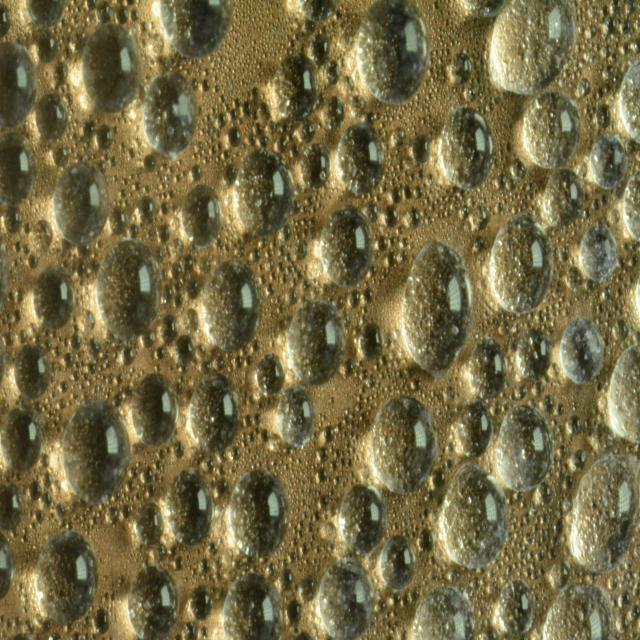dr: (402, 236, 469, 374), (570, 450, 638, 575), (489, 0, 574, 95), (357, 0, 433, 106), (62, 394, 128, 507), (94, 239, 164, 342), (442, 460, 509, 567), (489, 213, 549, 315), (34, 530, 97, 625), (371, 392, 431, 489), (199, 258, 260, 351), (79, 23, 142, 111), (286, 296, 346, 386), (148, 0, 239, 59), (234, 146, 290, 238), (495, 405, 555, 490), (231, 470, 287, 560), (50, 159, 106, 243), (224, 567, 287, 640), (440, 101, 491, 190), (541, 581, 616, 640), (320, 204, 373, 287), (320, 559, 373, 640), (408, 581, 479, 640), (126, 560, 178, 640), (146, 71, 197, 149), (188, 374, 241, 448), (523, 98, 579, 166), (130, 369, 178, 446), (0, 40, 41, 130), (164, 469, 212, 544), (606, 348, 640, 445), (336, 484, 383, 554), (559, 316, 604, 386), (271, 49, 316, 118), (338, 121, 382, 191), (0, 130, 38, 202), (31, 264, 72, 329), (183, 183, 222, 250), (0, 405, 41, 468), (576, 220, 616, 283), (13, 335, 52, 397), (469, 335, 505, 402), (282, 386, 318, 452), (542, 167, 583, 224), (498, 581, 534, 640), (589, 135, 627, 188), (381, 534, 414, 588), (453, 402, 488, 451), (517, 325, 546, 376), (36, 92, 67, 137), (301, 143, 330, 189), (25, 0, 68, 30), (0, 482, 24, 531), (135, 498, 161, 543), (256, 356, 284, 395), (447, 47, 469, 85), (190, 586, 212, 621), (310, 31, 332, 66), (323, 95, 345, 129), (358, 318, 378, 354), (36, 32, 60, 62), (2, 202, 23, 233), (411, 134, 431, 166), (297, 570, 318, 600), (175, 335, 196, 364), (286, 591, 302, 627), (94, 122, 113, 152), (161, 311, 178, 343), (93, 606, 110, 636), (109, 206, 127, 234), (138, 195, 156, 222), (418, 526, 434, 556)
